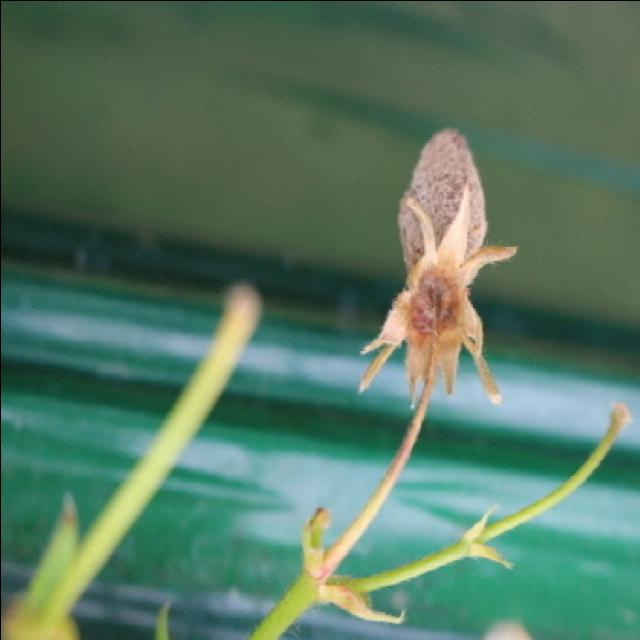Gray Mold: (375, 126, 519, 401)
